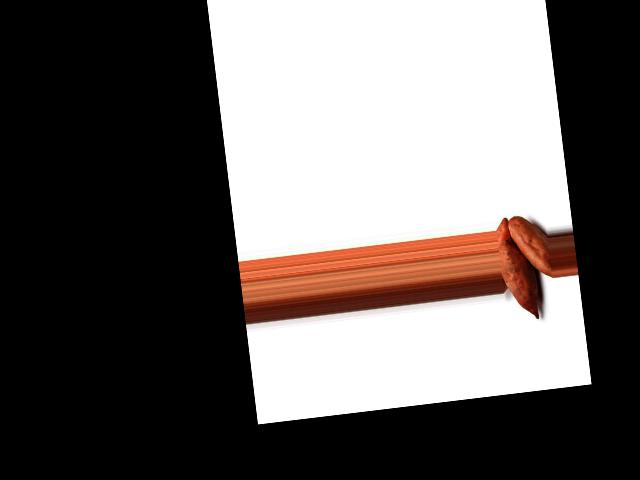sweet_potato: (508, 212, 553, 286)
